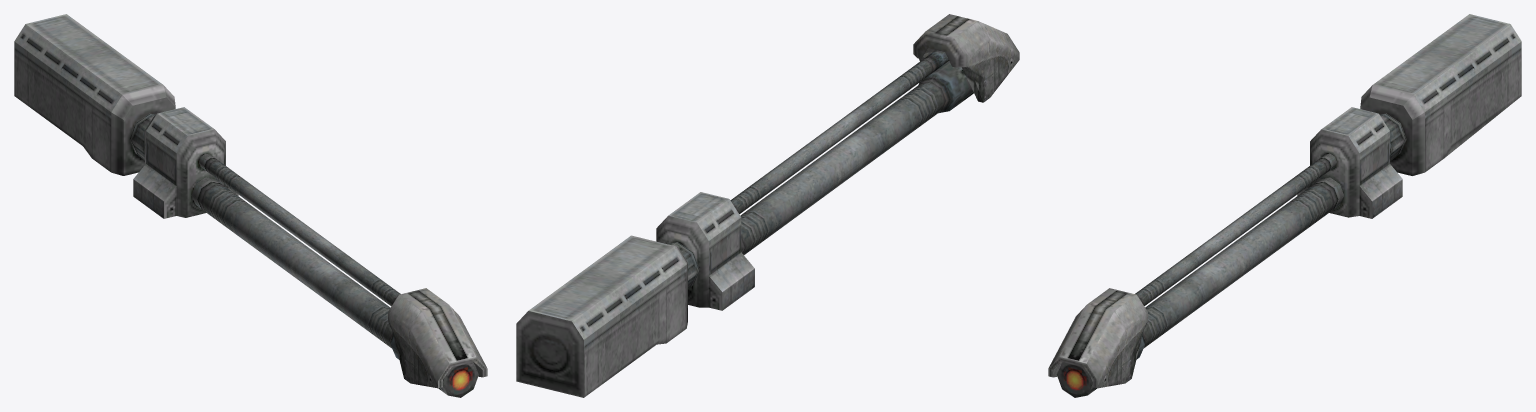
The model's file is bwing_weapon2l_s06_l0.fbx.
3 views of the same model, side by side, from view 1: azimuth 30°, elevation 25°; view 2: azimuth 150°, elevation 25°; view 3: azimuth 330°, elevation 25° (orthographic). The views are drawn at different scales.
Parts seen in each view (by area): view 1: mesh_node; view 2: mesh_node; view 3: mesh_node.
Boxes of the visible parts, box(x1,y1,x2,y2) form: mesh_node: box(14, 14, 487, 397); mesh_node: box(516, 14, 1019, 397); mesh_node: box(1048, 14, 1521, 397).
Size of the model in its own units: 0.2885 by 0.2847 by 2.79.
